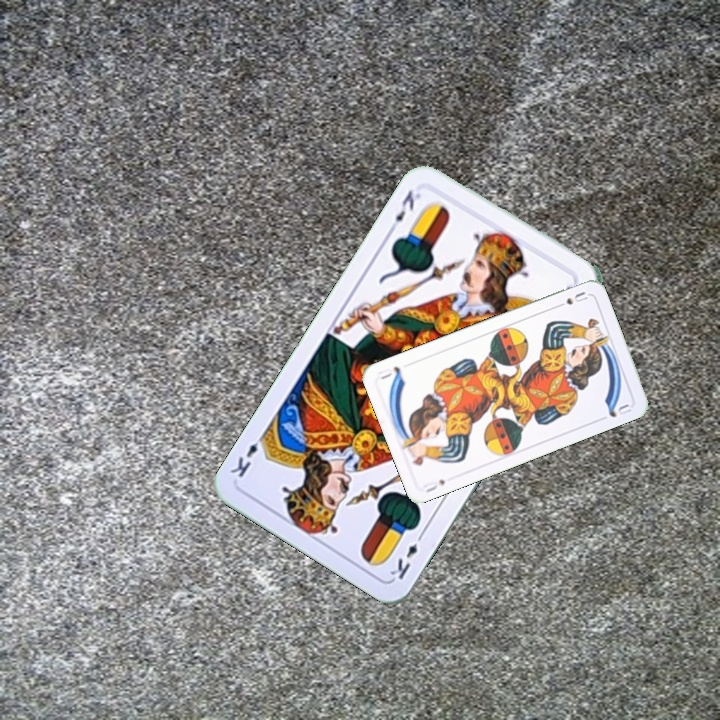EK: (386, 528, 427, 582), (385, 185, 424, 235)
SU: (551, 287, 590, 311), (419, 475, 448, 495)
